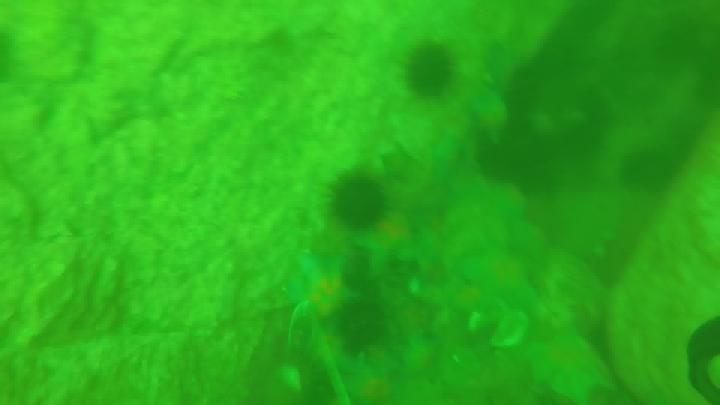echinus: (275, 258, 361, 325), (324, 171, 390, 232), (334, 300, 394, 354), (405, 43, 456, 98), (334, 364, 400, 405)
